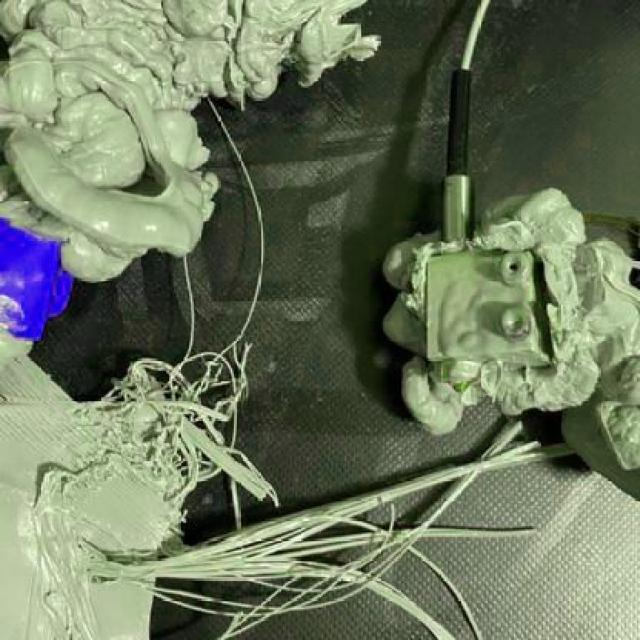Spaghetti: (82, 513, 543, 638), (83, 337, 283, 509)
